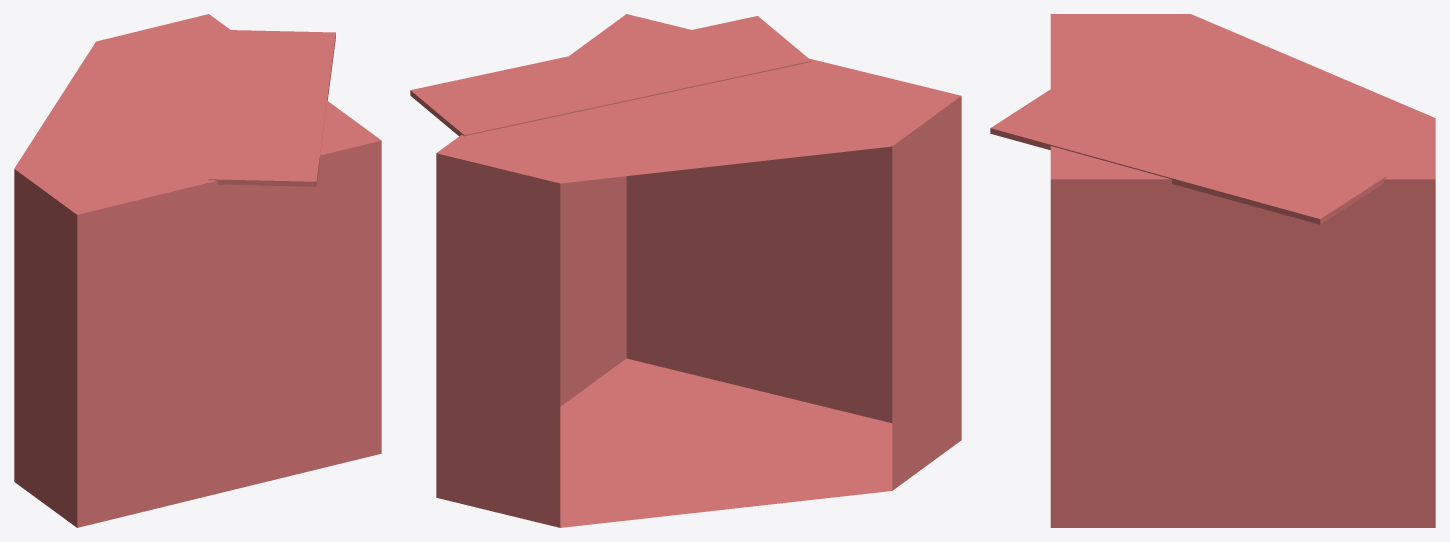
File: ScaffoldGroup_Small_Collider.fbx
3 renders of one model, left to right at view 1: azimuth 30°, elevation 25°; view 2: azimuth 150°, elevation 25°; view 3: azimuth 270°, elevation 25°, orthographic. The views are drawn at different scales.
Parts seen in each view (by area): view 1: ScaffoldGroup_SmallCombined_Collider; view 2: ScaffoldGroup_SmallCombined_Collider; view 3: ScaffoldGroup_SmallCombined_Collider.
Boxes of the visible parts, left/top/right/bottom form: ScaffoldGroup_SmallCombined_Collider: left=14, top=14, right=381, bottom=527; ScaffoldGroup_SmallCombined_Collider: left=410, top=14, right=961, bottom=527; ScaffoldGroup_SmallCombined_Collider: left=990, top=14, right=1435, bottom=527.
Size of the model in its own units: 13.22 by 10.45 by 12.05.
